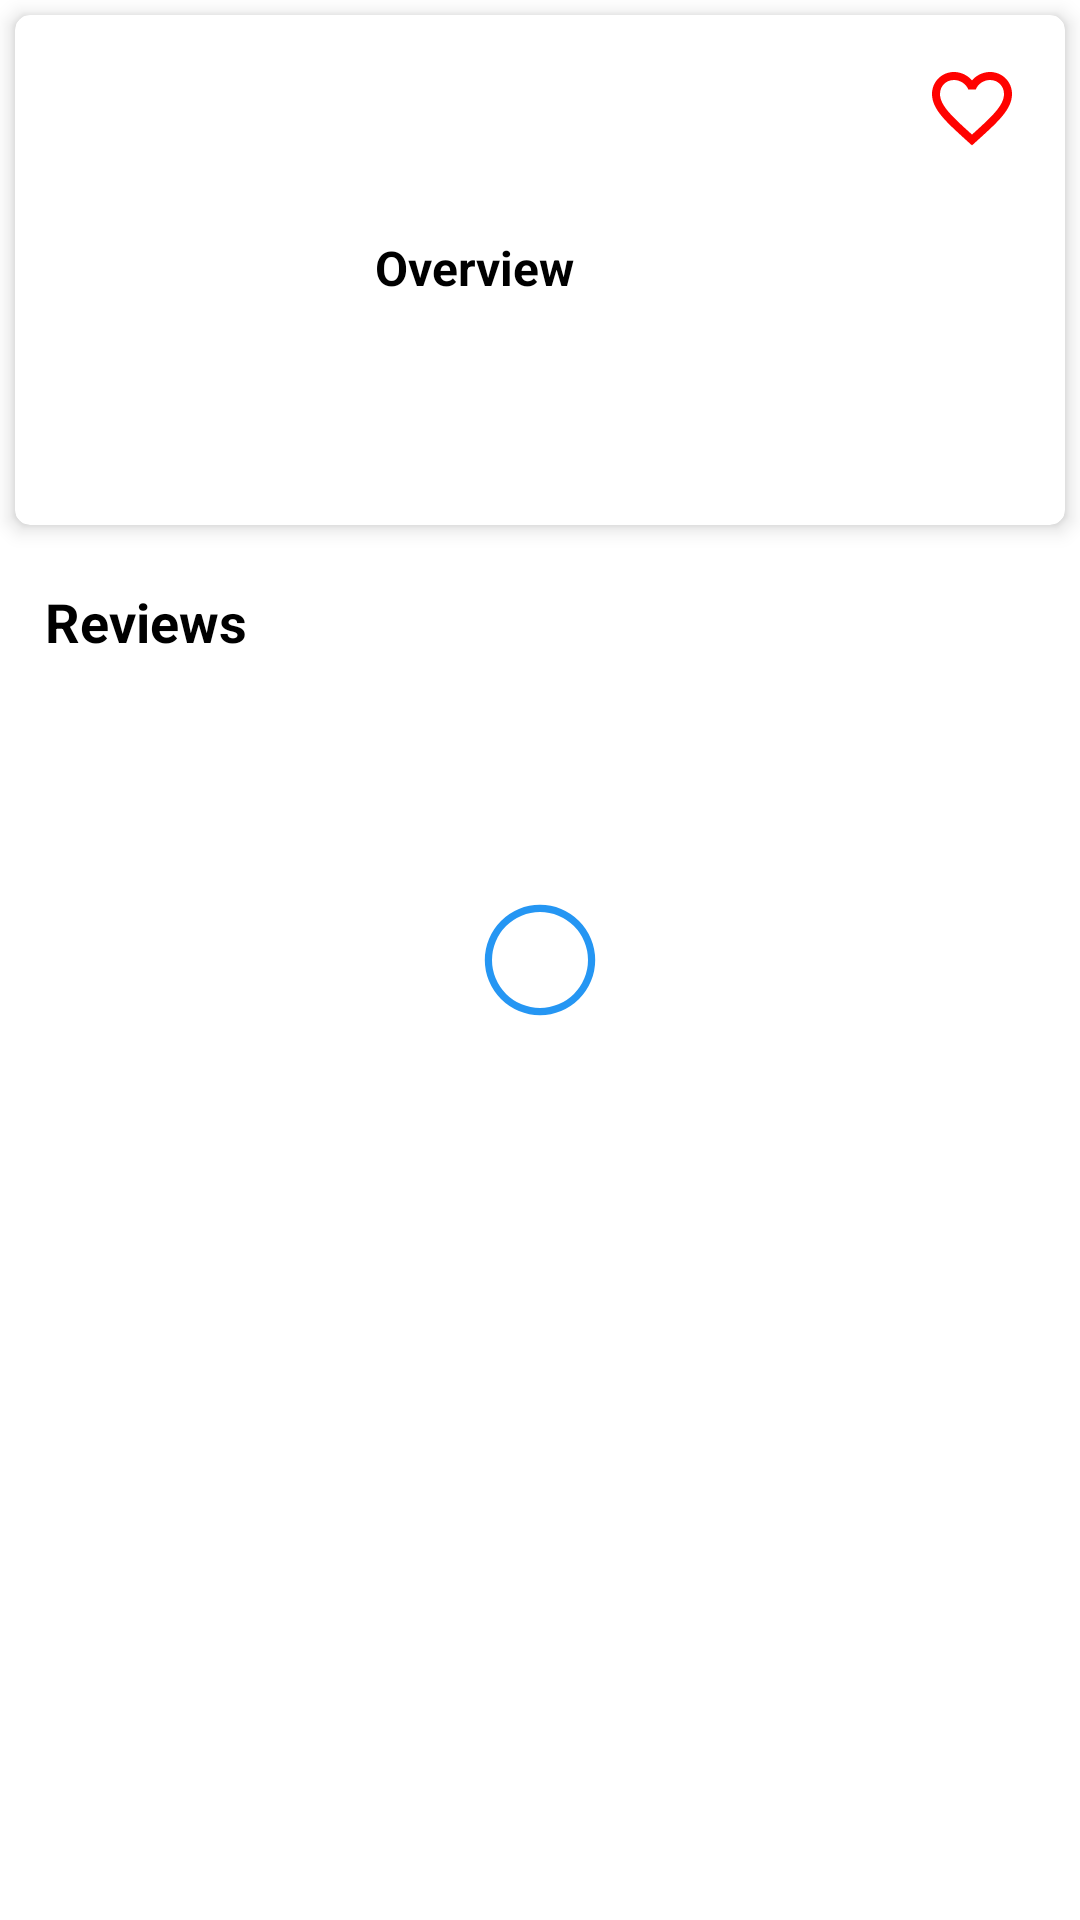

Where to tap for icons on this 1080 x 1920 app screen, as point (x, y):
unfavorite: point (972, 108)
